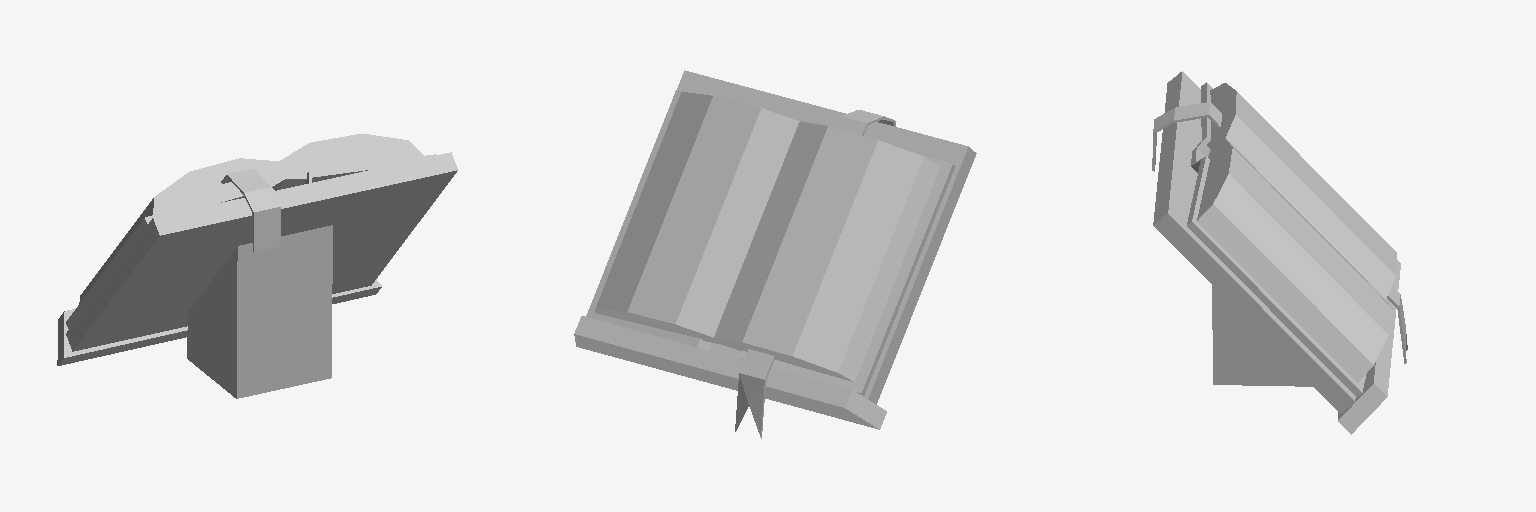
File: recipeBook.obj
3 renders of one model, left to right at view 1: azimuth 30°, elevation 25°; view 2: azimuth 150°, elevation 25°; view 3: azimuth 270°, elevation 25°, orthographic.
Parts seen in each view (by area): view 1: Book group2 initialShadingGroup initialShadingGroup1 initialShad; view 2: Book group2 initialShadingGroup initialShadingGroup1 initialShad; view 3: Book group2 initialShadingGroup initialShadingGroup1 initialShad.
Part boxes in pixels (left/top/right/bottom): Book group2 initialShadingGroup initialShadingGroup1 initialShad: left=57, top=133, right=457, bottom=398; Book group2 initialShadingGroup initialShadingGroup1 initialShad: left=574, top=70, right=976, bottom=438; Book group2 initialShadingGroup initialShadingGroup1 initialShad: left=1152, top=71, right=1407, bottom=434.
Bounding box in the file's own units: 2.76 × 2.09 × 1.96.